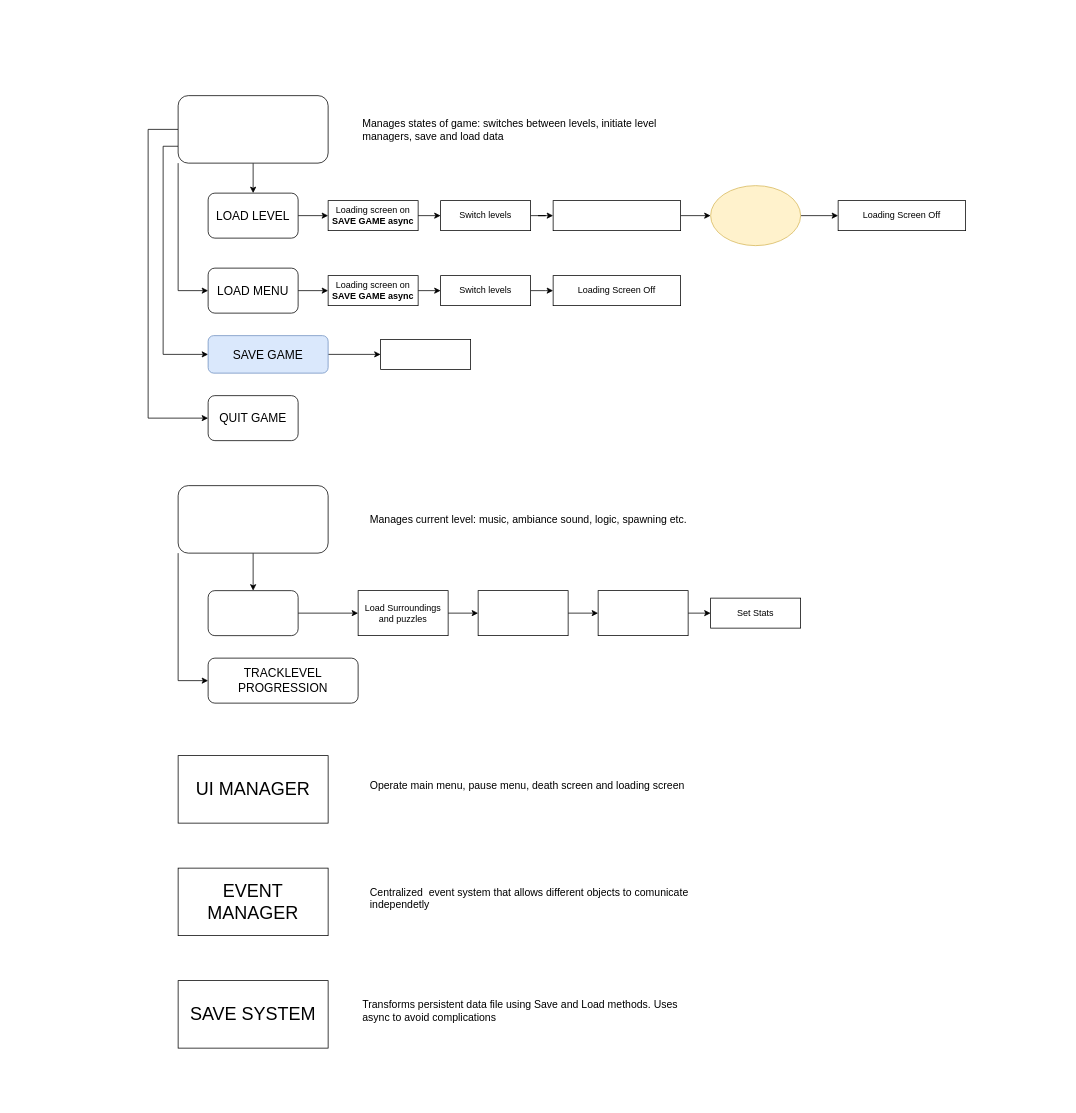
Image size: 1076x1113. Some labels were removed from this diagram. The centre of each missing label's shape, as x and y in pixels:
GAME MANAGER: (x=252, y=129)
Instantiate EnemySpawner and Player: (x=642, y=613)
LEVEL MANAGER: (x=252, y=519)
SaveSystem.load() Event.StartLevel.Invoke(): (x=616, y=215)
SaveSystem.save(): (x=425, y=354)
Set Compas Waypoints: (x=522, y=613)
START LEVEL: (x=252, y=613)
wait for response from level manager: (x=755, y=215)
